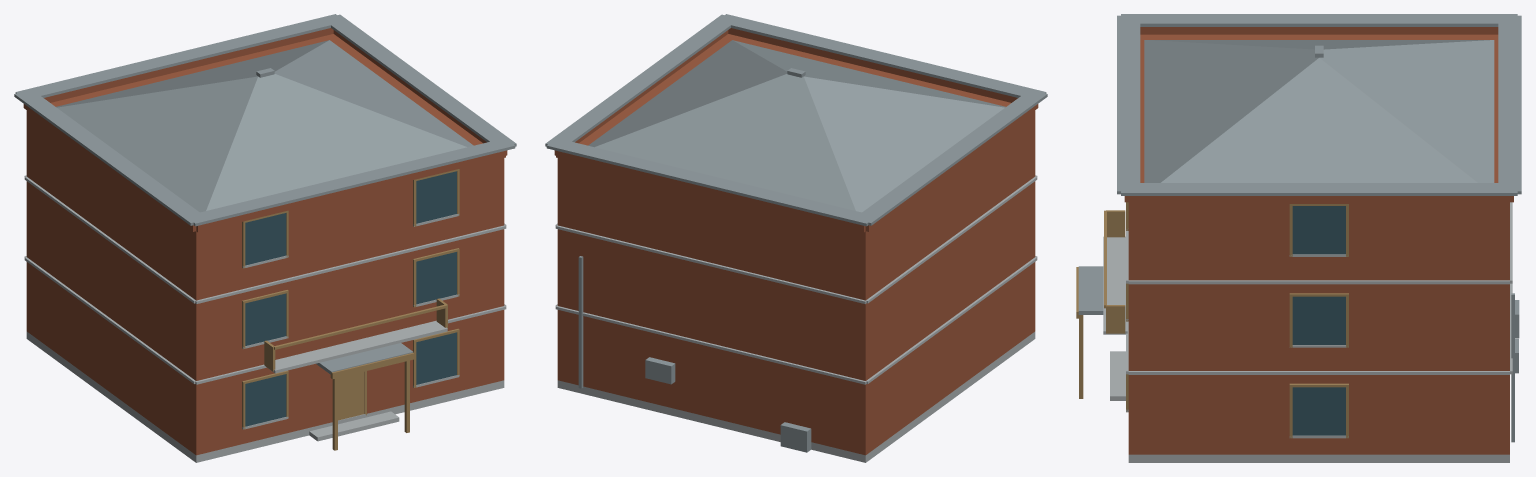
Rendered from walkup-flats.glb.
3 views of the same model, side by side, from view 1: azimuth 30°, elevation 25°; view 2: azimuth 150°, elevation 25°; view 3: azimuth 270°, elevation 25° (orthographic). The views are drawn at different scales.
Parts seen in each view (by area): view 1: wall-envelope, roof-concealed-hip, walkup-flats-coping-front, walkup-flats-coping-rear, walkup-flats-coping-west, walkup-flats-coping-east, ground-contact-plinth, walkup-balcony-deck, front-parapet, rear-parapet, opening-front-f0-left, opening-front-f2-left (+15 smaller); view 2: wall-envelope, roof-concealed-hip, walkup-flats-coping-rear, walkup-flats-coping-front, ground-contact-plinth, walkup-flats-coping-west, walkup-flats-coping-east, rear-parapet, front-parapet, storey-line-02-rear, storey-line-01-rear, storey-line-02-west (+6 smaller); view 3: wall-envelope, roof-concealed-hip, walkup-flats-coping-east, walkup-flats-coping-west, walkup-flats-coping-rear, walkup-flats-coping-front, ground-contact-plinth, east-parapet, west-parapet, opening-east-f0, opening-east-f1, opening-east-f2 (+8 smaller).
Boxes of the visible parts, x1,y1,x2,y2 form: wall-envelope: [26, 34, 504, 455]; roof-concealed-hip: [56, 40, 473, 212]; walkup-flats-coping-front: [190, 141, 515, 226]; walkup-flats-coping-rear: [15, 14, 344, 97]; walkup-flats-coping-west: [14, 90, 208, 225]; walkup-flats-coping-east: [322, 14, 516, 147]; ground-contact-plinth: [26, 331, 504, 462]; walkup-balcony-deck: [265, 320, 447, 373]; front-parapet: [196, 150, 505, 232]; rear-parapet: [44, 28, 333, 102]; opening-front-f0-left: [245, 374, 286, 426]; opening-front-f2-left: [245, 213, 286, 265]; wall-envelope: [557, 34, 1035, 455]; roof-concealed-hip: [588, 40, 1005, 212]; walkup-flats-coping-rear: [546, 141, 876, 226]; walkup-flats-coping-front: [717, 14, 1046, 99]; ground-contact-plinth: [557, 331, 1035, 462]; walkup-flats-coping-west: [854, 90, 1047, 225]; walkup-flats-coping-east: [545, 14, 738, 147]; rear-parapet: [556, 150, 865, 232]; front-parapet: [728, 28, 1017, 102]; storey-line-02-rear: [555, 225, 866, 303]; storey-line-01-rear: [555, 305, 866, 384]; storey-line-02-west: [866, 176, 1037, 303]; wall-envelope: [1128, 34, 1509, 454]; roof-concealed-hip: [1144, 40, 1494, 182]; walkup-flats-coping-east: [1121, 183, 1517, 195]; walkup-flats-coping-west: [1121, 14, 1517, 26]; walkup-flats-coping-rear: [1498, 15, 1521, 194]; walkup-flats-coping-front: [1117, 15, 1140, 194]; ground-contact-plinth: [1128, 454, 1509, 462]; east-parapet: [1128, 196, 1509, 203]; west-parapet: [1140, 27, 1498, 34]; opening-east-f0: [1292, 387, 1345, 435]; opening-east-f1: [1292, 296, 1345, 344]; opening-east-f2: [1292, 206, 1345, 254].
Bounding box in the file's own units: 13.54 × 11.6 × 14.24.
